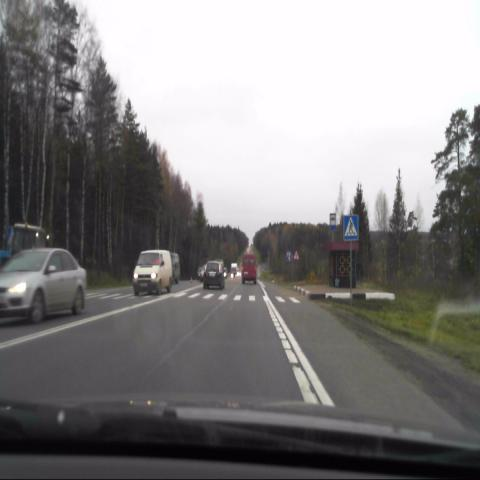2_3_3: (293, 248, 299, 261)
5_16: (330, 213, 336, 230)
5_19_1: (342, 215, 359, 241)
